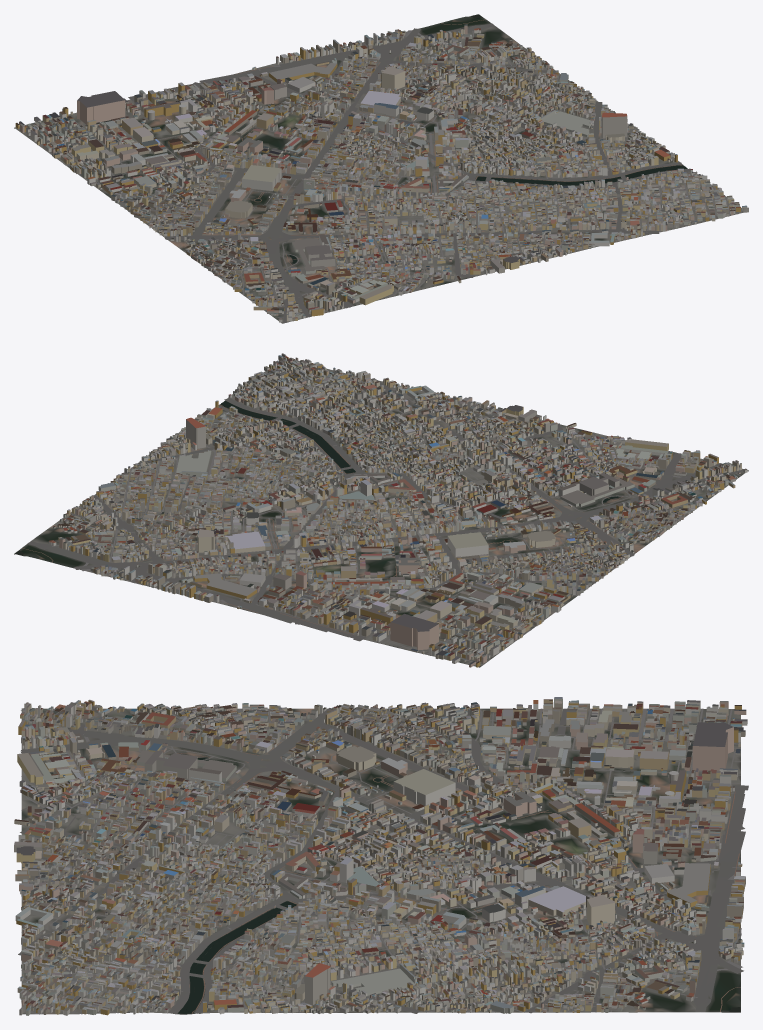
3 renders of one model, top to bottom at view 1: azimuth 30°, elevation 25°; view 2: azimuth 150°, elevation 25°; view 3: azimuth 270°, elevation 25°, orthographic. The views are drawn at different scales.
Parts seen in each view (by area): view 1: buildings, ground, roads, water; view 2: buildings, ground, roads, water; view 3: buildings, ground, roads, water.
Part boxes in pixels (bbox=[...]): buildings: bbox=[15, 24, 748, 322]; ground: bbox=[14, 14, 744, 323]; roads: bbox=[17, 19, 742, 322]; water: bbox=[255, 14, 687, 263]; buildings: bbox=[48, 353, 747, 667]; ground: bbox=[14, 363, 748, 667]; roads: bbox=[22, 366, 743, 665]; water: bbox=[15, 400, 618, 567]; buildings: bbox=[14, 697, 747, 1015]; ground: bbox=[21, 708, 740, 1014]; roads: bbox=[18, 707, 748, 1014]; water: bbox=[178, 758, 740, 1014].
Size of the model in its own units: 1430 by 65.64 by 1431.
